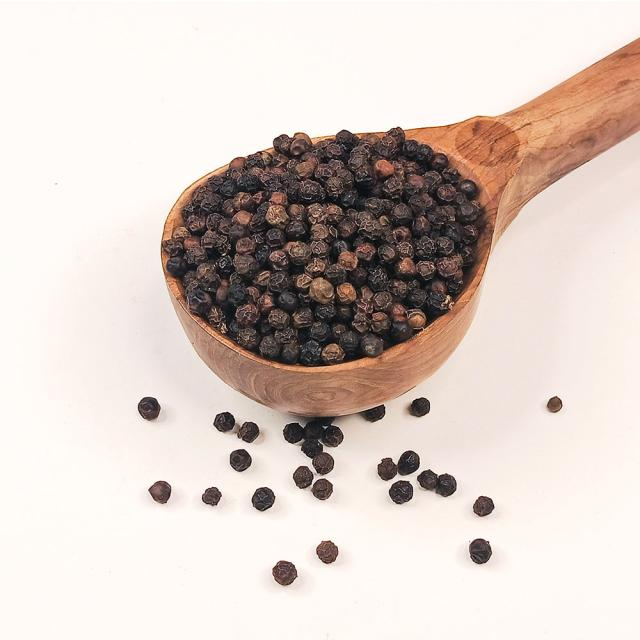Black pepper: (152, 117, 544, 374), (77, 418, 502, 587)
